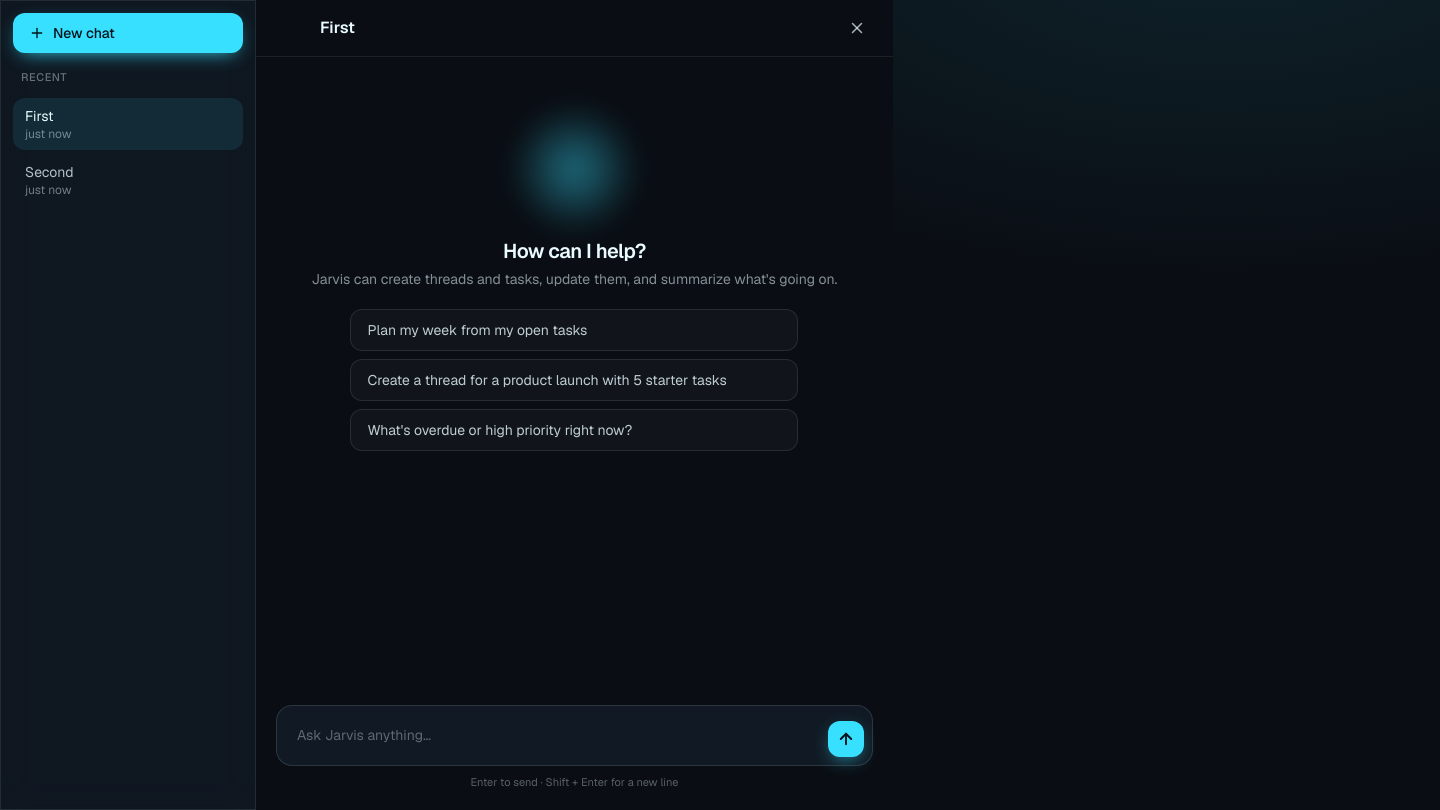
Scenario: JarvisWorkspace › switching sessions loads that session's messages
This screenshot has width=1440, height=810.
Click the text "Second" at (49, 172), box [25,162,74,182]
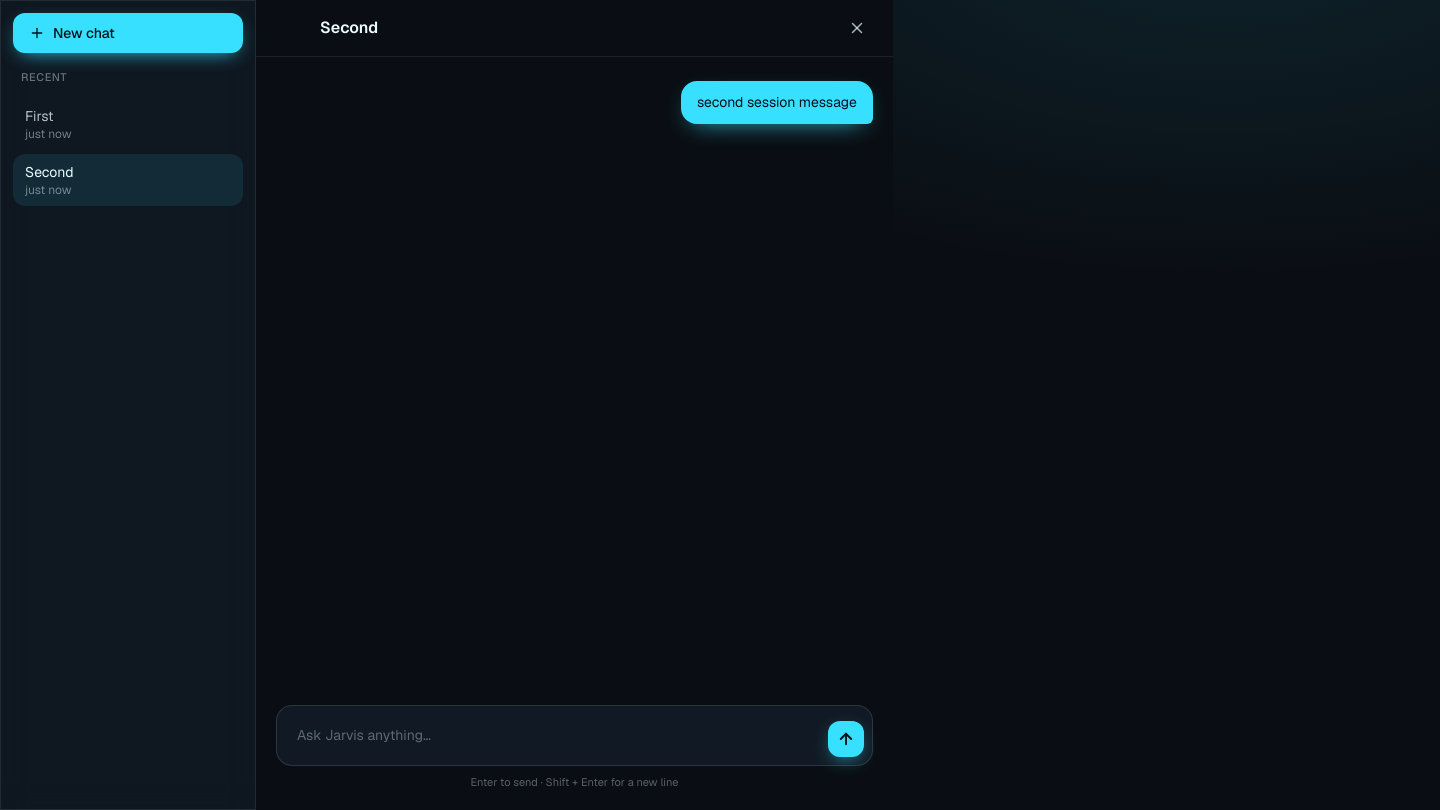
Expected: the element with test id "jarvis-message" reads "second session message", [697,93,857,111]
